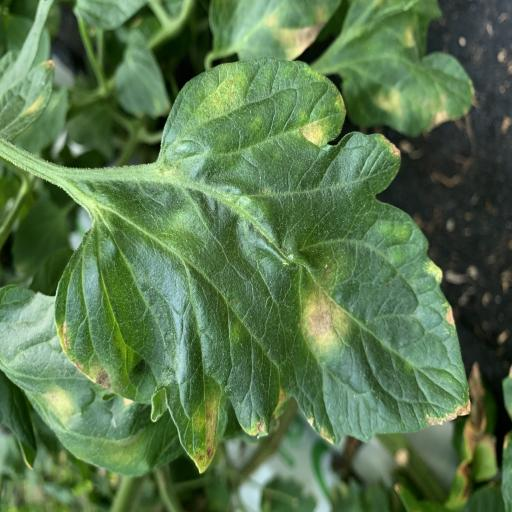disease_tomato: (54, 57, 474, 448)
